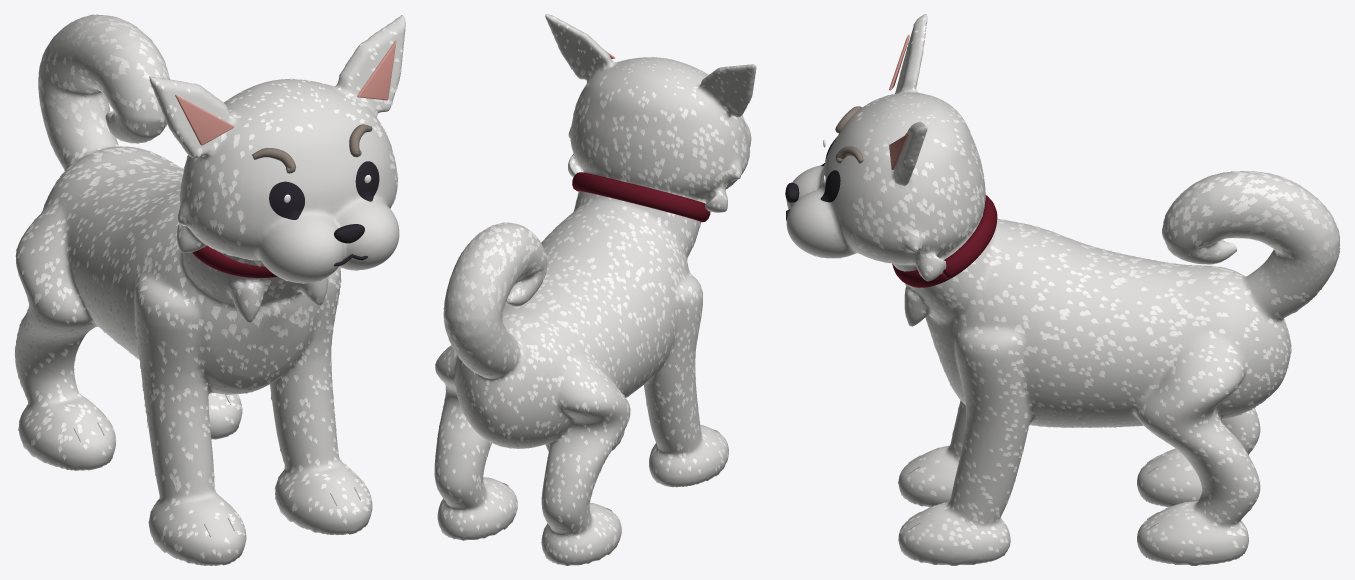
The model's file is sadaharu-static.1d6a7b1b3438.glb.
The picture shows the model from 3 angles, left to right: view 1: azimuth 30°, elevation 25°; view 2: azimuth 150°, elevation 25°; view 3: azimuth 270°, elevation 25°; orthographic projection. The views are drawn at different scales.
Visible parts, largest first — view 1: SadaharuCoat, FineDirectionalFurCards, InnerEarL, ContinuousBurgundyCollar, EyeL, InnerEarR, EyeR, CurledBrowL; view 2: SadaharuCoat, FineDirectionalFurCards, ContinuousBurgundyCollar; view 3: SadaharuCoat, FineDirectionalFurCards, ContinuousBurgundyCollar.
Part boxes in pixels (box(x1,y1,x2,y2)): SadaharuCoat: box(15, 14, 405, 565); FineDirectionalFurCards: box(14, 14, 402, 558); InnerEarL: box(175, 94, 234, 145); ContinuousBurgundyCollar: box(192, 245, 277, 277); EyeL: box(269, 181, 304, 219); InnerEarR: box(357, 41, 396, 100); EyeR: box(355, 161, 379, 201); CurledBrowL: box(252, 148, 295, 173); SadaharuCoat: box(434, 14, 756, 565); FineDirectionalFurCards: box(434, 17, 755, 559); ContinuousBurgundyCollar: box(572, 172, 710, 222); SadaharuCoat: box(786, 14, 1339, 565); FineDirectionalFurCards: box(811, 17, 1340, 557); ContinuousBurgundyCollar: box(892, 195, 997, 287).
Bounding box in the file's own units: 1.61 × 2.99 × 3.33.
8 materials, 1 textured.
